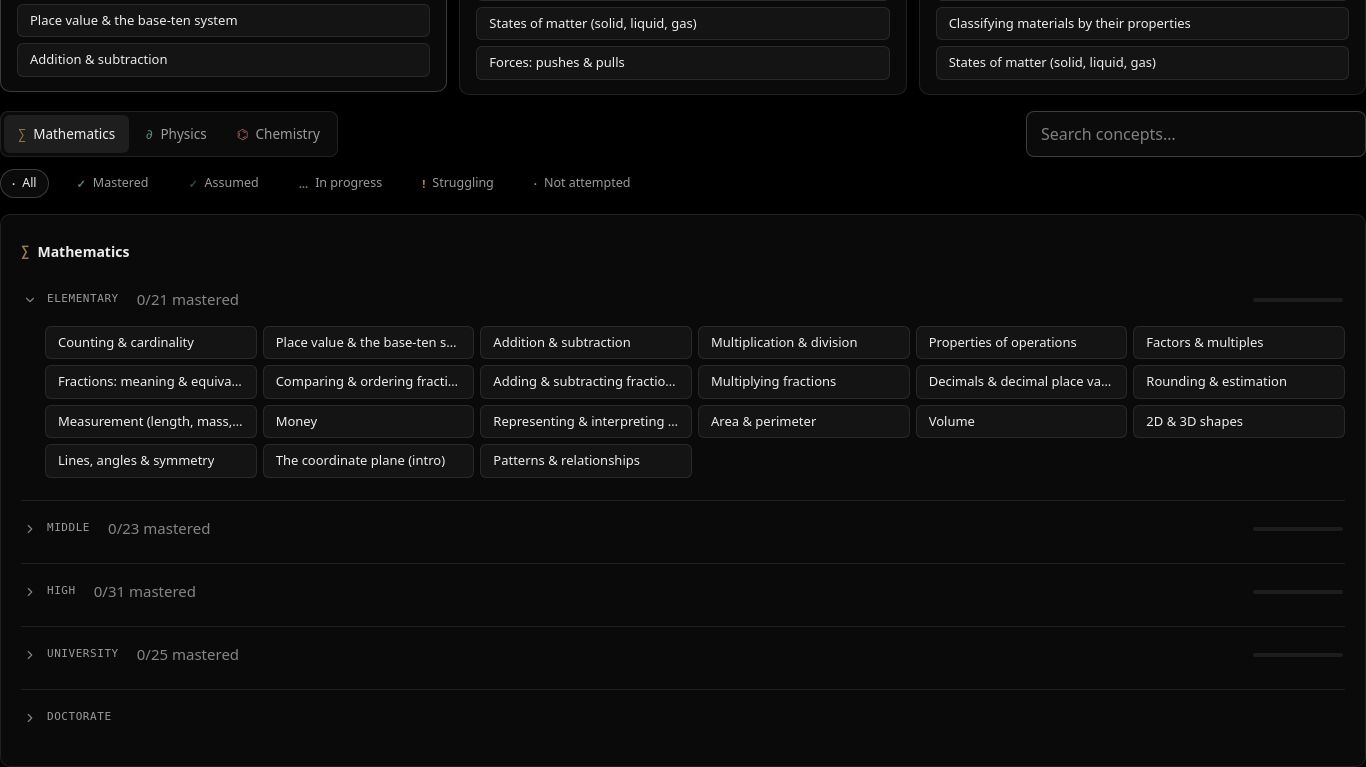
Test: LearnTab — curriculum listing › the Doctorate rank is a collapsed WIP header — expanding shows the in-development note
This screenshot has width=1366, height=767.
(page scrolled)
Expected: the text "in development" is not shown
Click the button "Doctorate". click: (79, 717)
box: x1=21 y1=696 x2=1345 y2=740
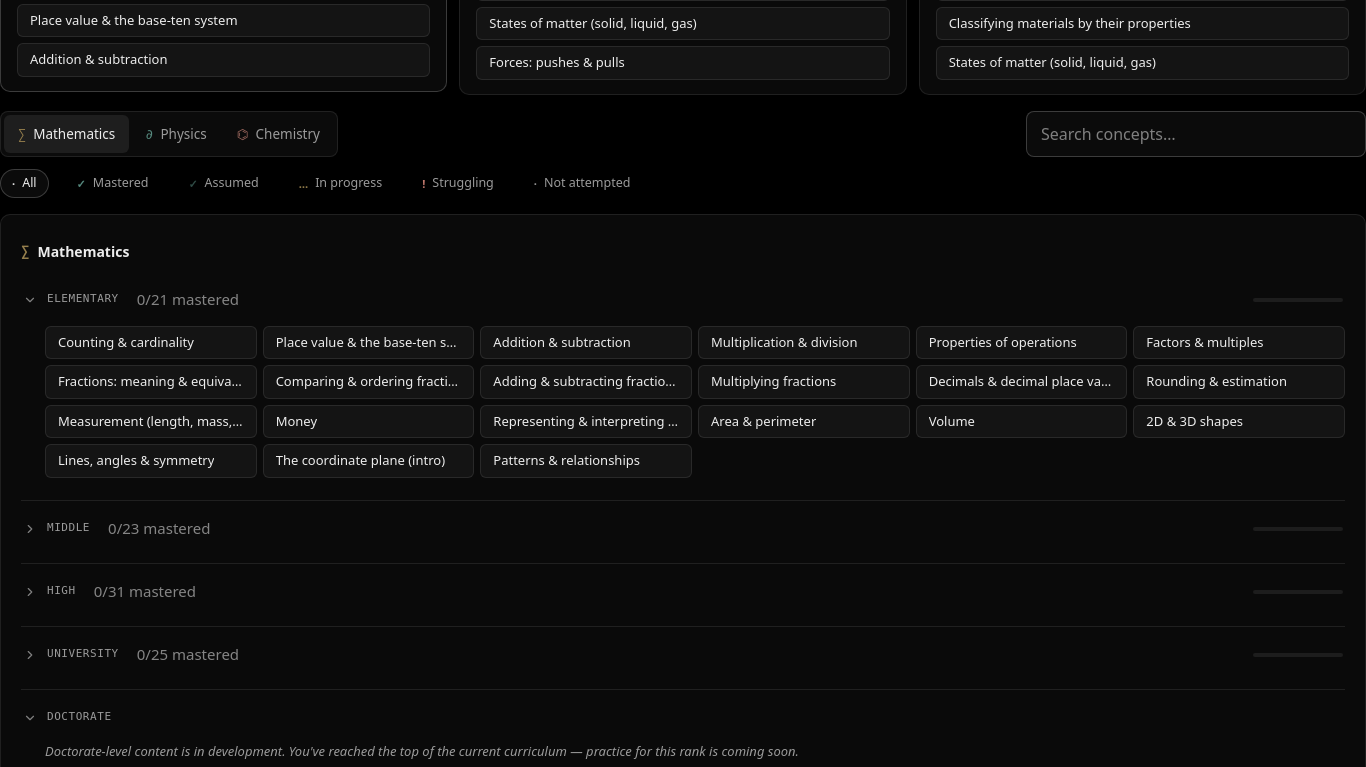
Expected: the text "in development" is shown, x1=45 y1=742 x2=799 y2=760
